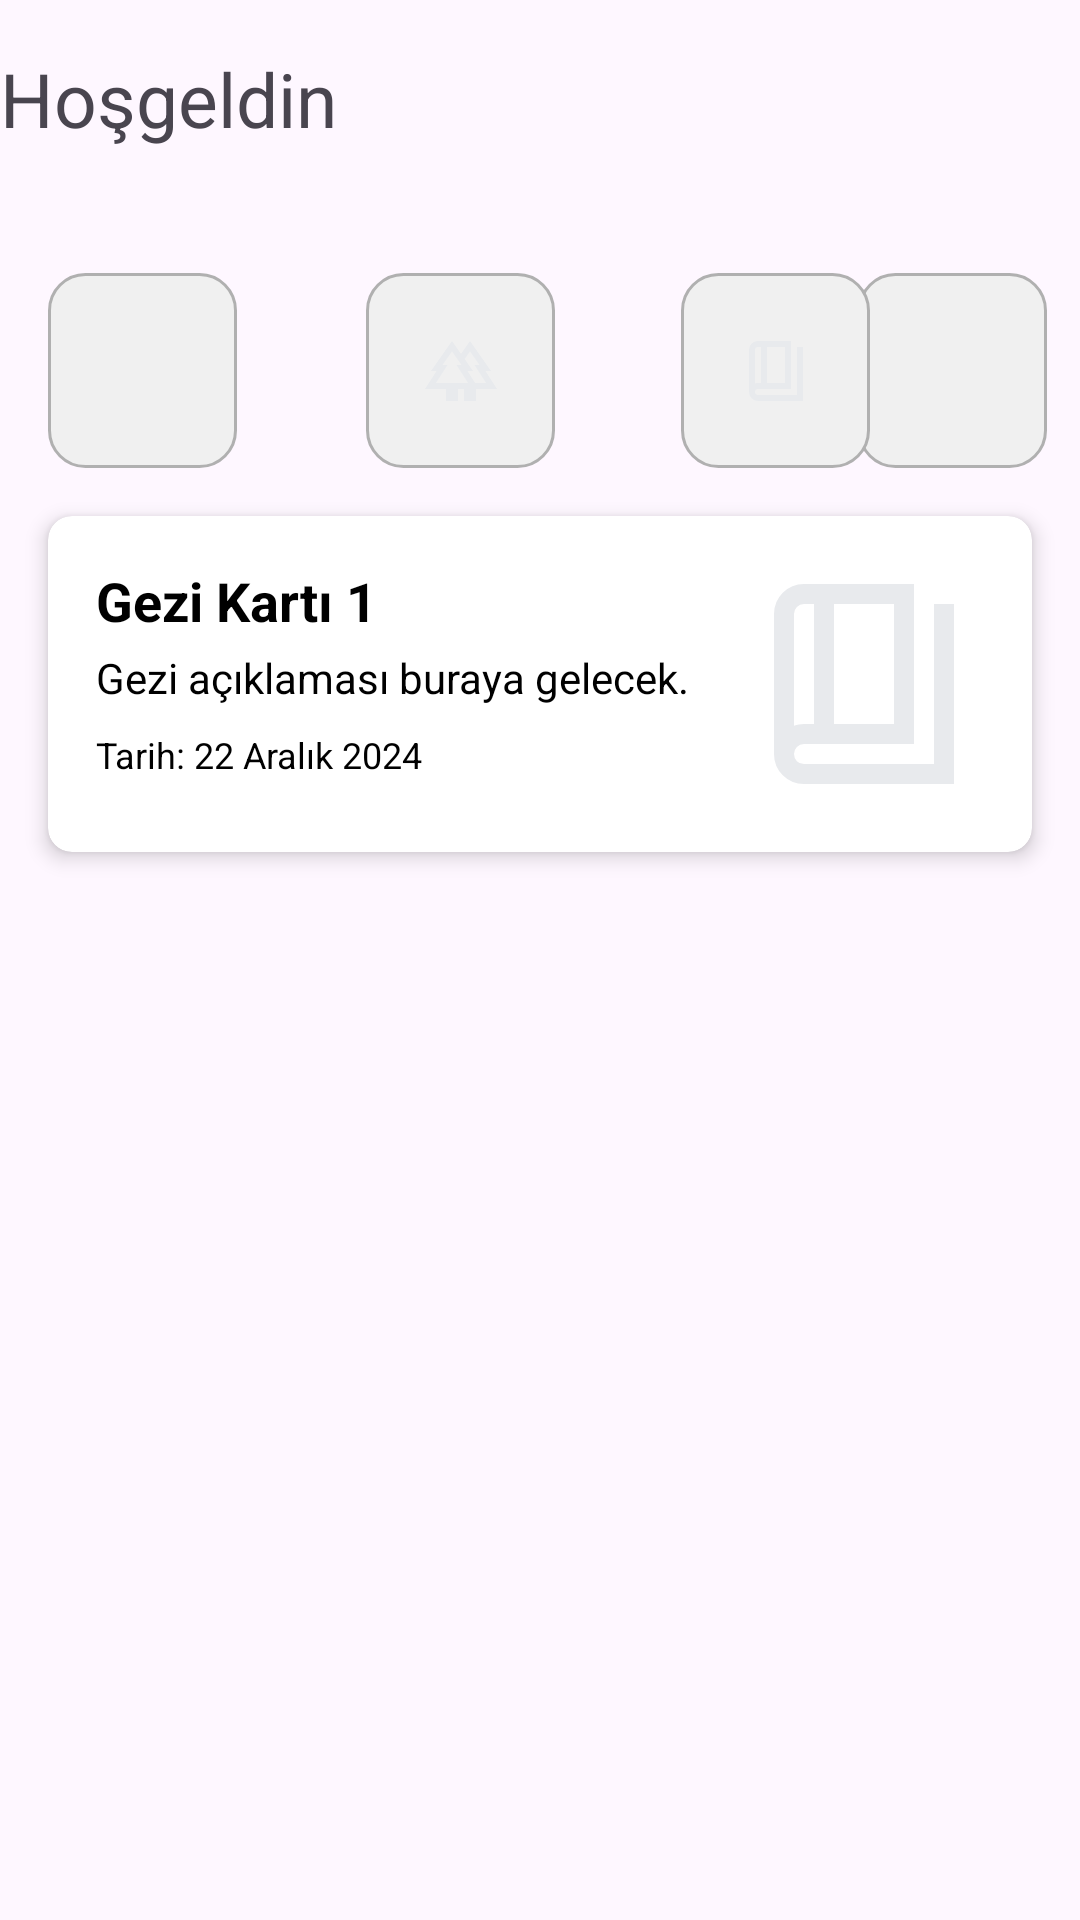

Point at icon controls on the screen. Image size 1080 x 1920, points as (x=x, y=y).
Doğa ikonu: (x=460, y=370)
